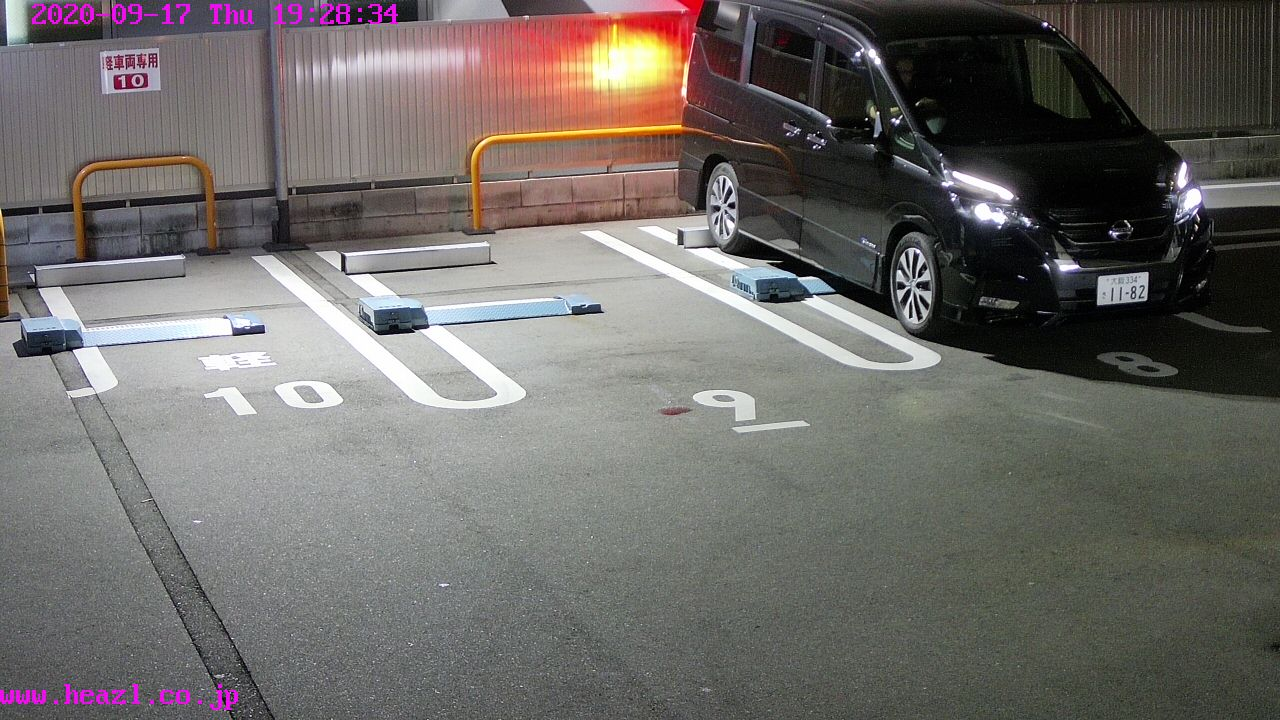number_plate: (1097, 275, 1148, 303)
